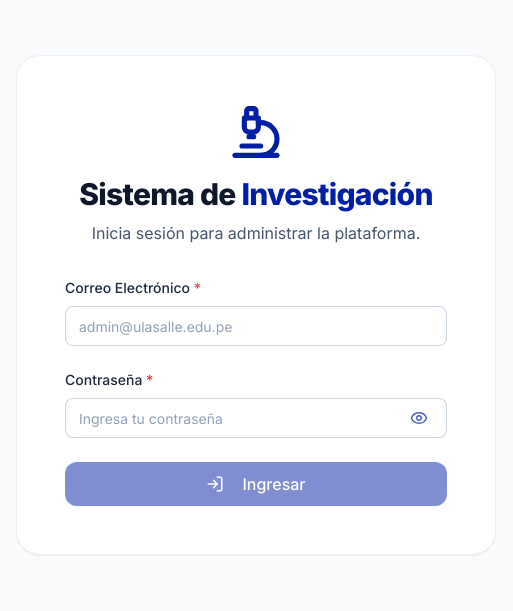
Test: LoginPage › muestra mensaje de error cuando la API rechaza las credenciales y permite cerrarlo
Type "error@ulasalle.edu.pe" into the field with placeholder "admin@ulasalle.edu.pe".
click(256, 326); type("error@ulasalle.edu.pe")  # box top-left (65, 306), bottom-right (447, 346)
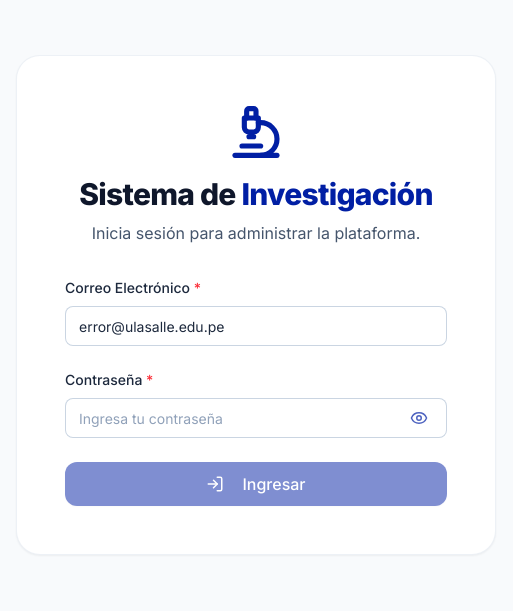
Type "pass12345" into the password field with placeholder "Ingresa tu contraseña".
click(256, 418); type("pass12345")  # box top-left (65, 398), bottom-right (447, 438)
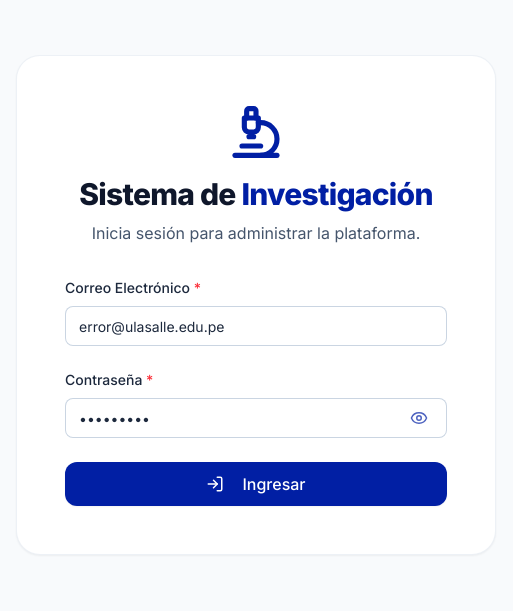
Submit the form, box top-left (65, 278), bottom-right (447, 506)
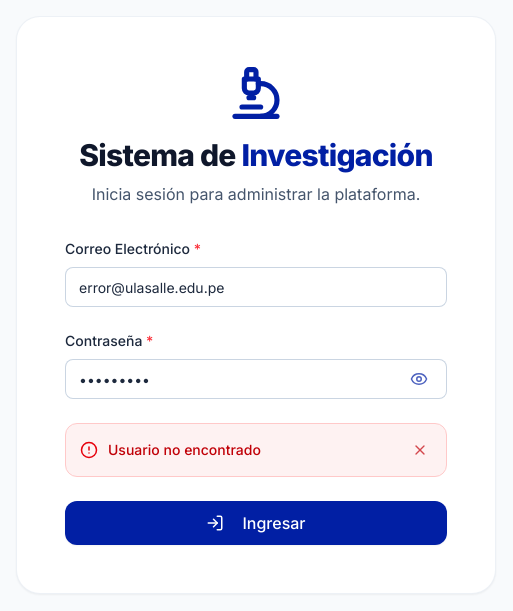
Now the text "Usuario no encontrado" is shown, box top-left (108, 440), bottom-right (261, 460)
Click the button named "Cerrar notificación".
click(420, 450)  # box top-left (408, 438), bottom-right (432, 462)
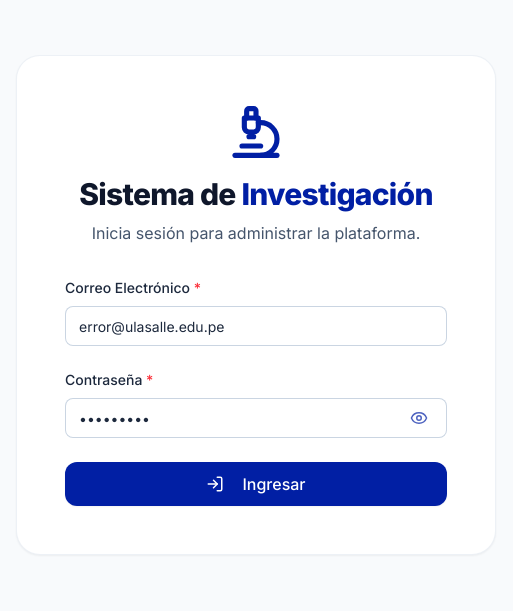
Now the text "Usuario no encontrado" is gone
